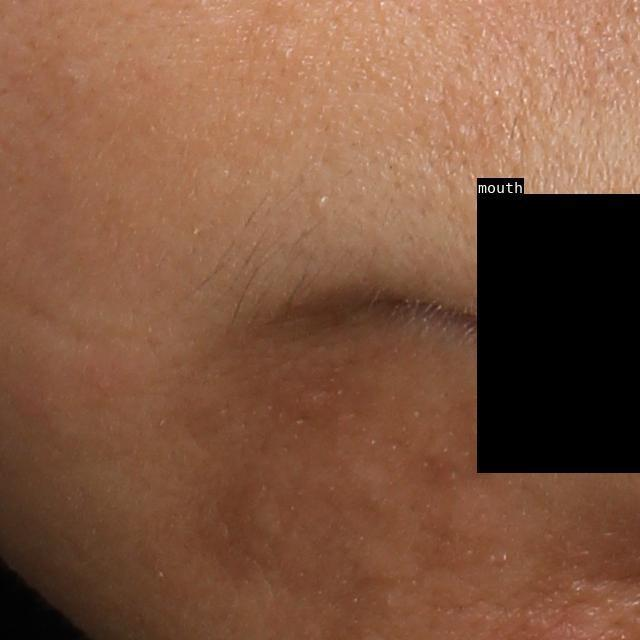comedo: (305, 194, 331, 215)
hypertrophic_scar: (411, 483, 506, 555)
